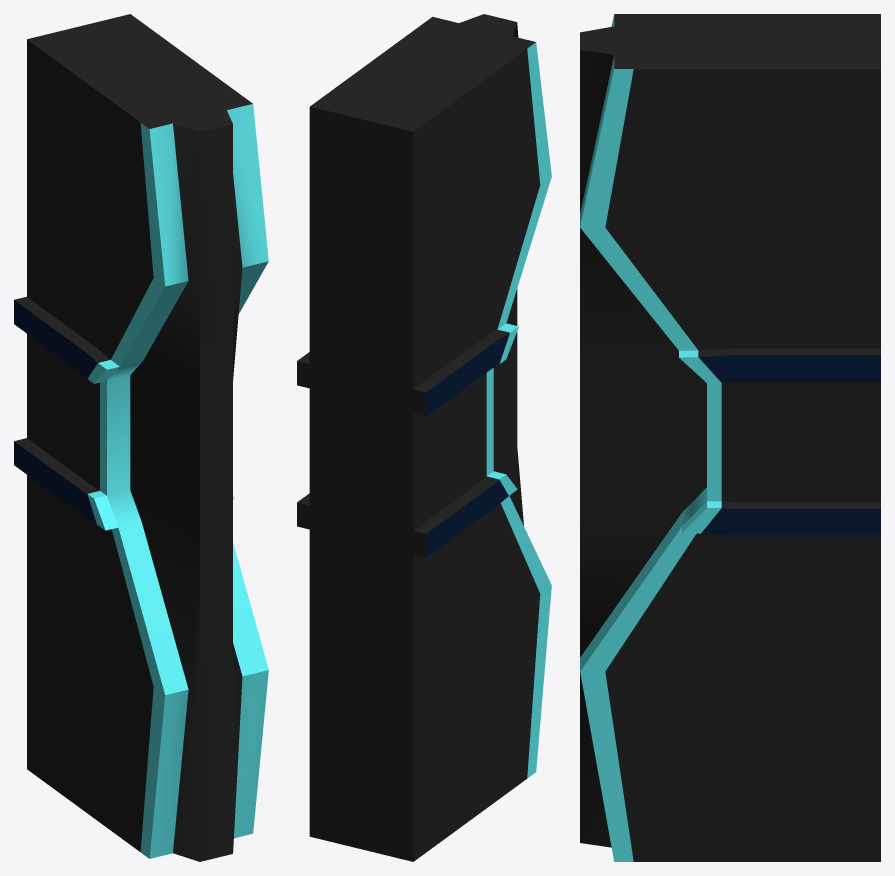
Rendered from Door_Lock.obj.
3 views of the same model, side by side, from view 1: azimuth 30°, elevation 25°; view 2: azimuth 150°, elevation 25°; view 3: azimuth 270°, elevation 25° (orthographic). The views are drawn at different scales.
Visible parts, largest first — view 1: pasted__pCube1 group; view 2: pasted__pCube1 group; view 3: pasted__pCube1 group.
Boxes of the visible parts, x1,y1,x2,y2 form: pasted__pCube1 group: [14, 14, 268, 861]; pasted__pCube1 group: [297, 14, 551, 861]; pasted__pCube1 group: [580, 14, 880, 861].
Size of the model in its own units: 3.07 by 16.61 by 5.71.
